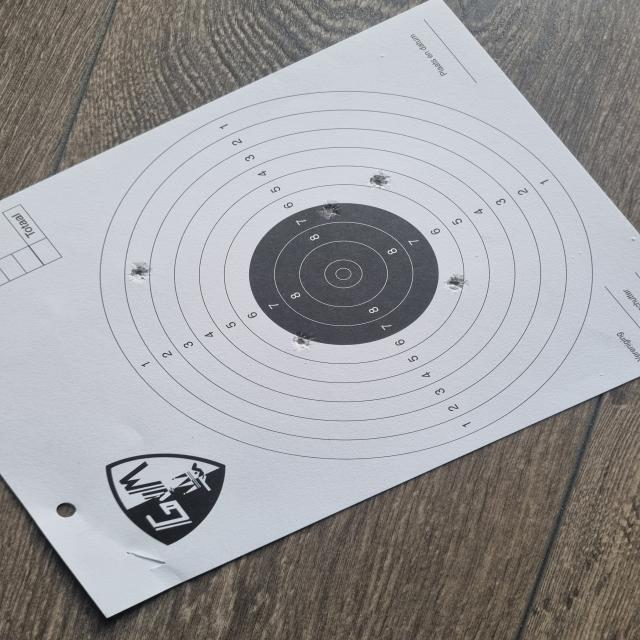4: (126, 266, 150, 280)
7: (443, 274, 468, 290), (369, 172, 390, 190)
8: (290, 332, 314, 350), (316, 200, 340, 218)
Black Contour: (249, 202, 440, 346)
Target: (99, 90, 593, 460)
